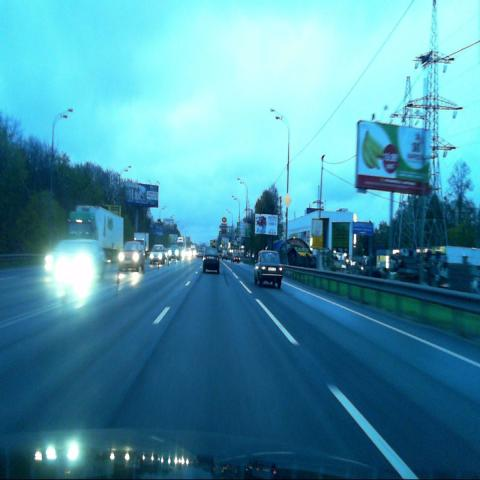2_1: (283, 193, 292, 207)
